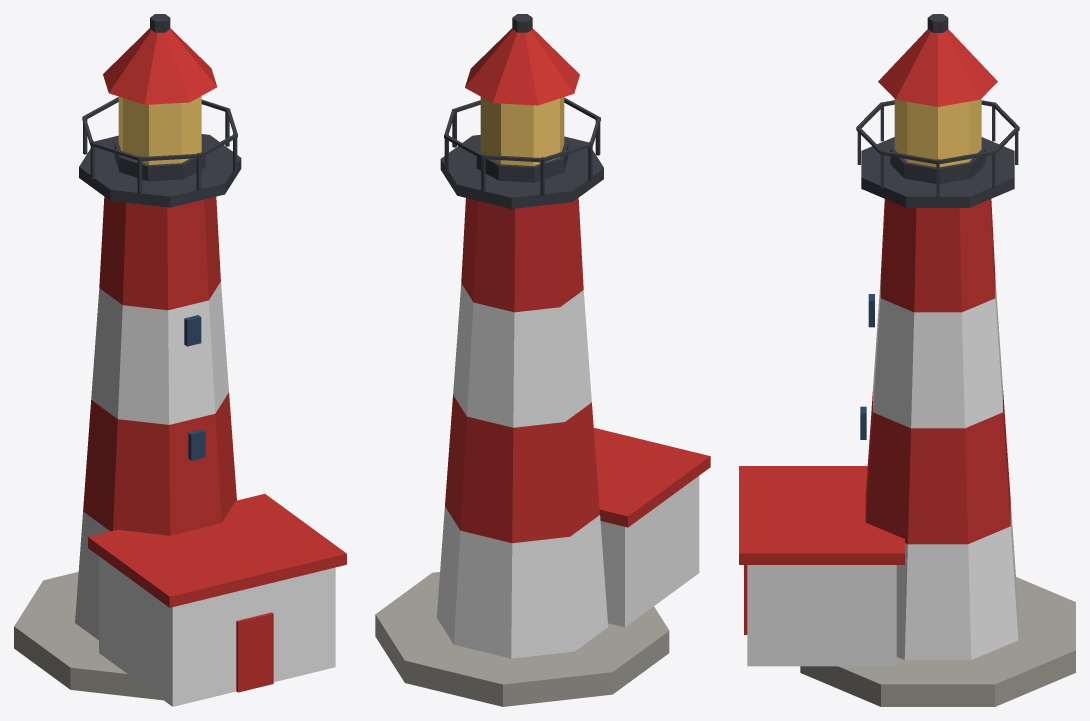
Rendered from Lighthouse.glb.
3 views of the same model, side by side, from view 1: azimuth 30°, elevation 25°; view 2: azimuth 150°, elevation 25°; view 3: azimuth 270°, elevation 25° (orthographic).
Parts seen in each view (by area): view 1: Lighthouse_Mesh, Lighthouse_Light; view 2: Lighthouse_Mesh, Lighthouse_Light; view 3: Lighthouse_Mesh, Lighthouse_Light.
Part boxes in pixels (x1=…): Lighthouse_Mesh: x1=14, y1=14, x2=346, y2=706; Lighthouse_Light: x1=118, y1=96, x2=201, y2=164; Lighthouse_Mesh: x1=375, y1=14, x2=710, y2=706; Lighthouse_Light: x1=480, y1=97, x2=564, y2=165; Lighthouse_Mesh: x1=739, y1=14, x2=1075, y2=706; Lighthouse_Light: x1=894, y1=99, x2=981, y2=167.
Bounding box in the file's own units: 6.65 × 16.8 × 8.13.
Materials: 1 (1 with a texture image).
